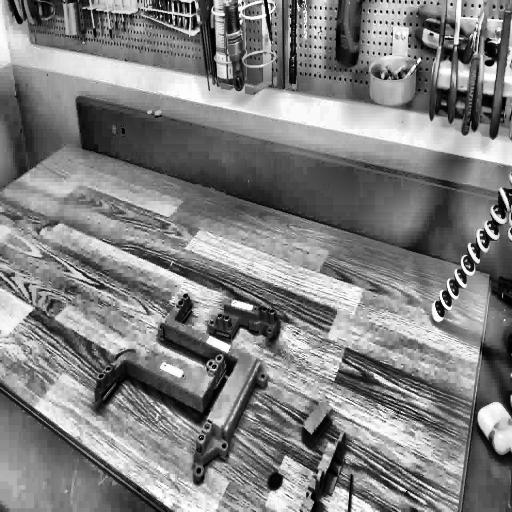busbar: (88, 288, 269, 488), (206, 294, 281, 343)
